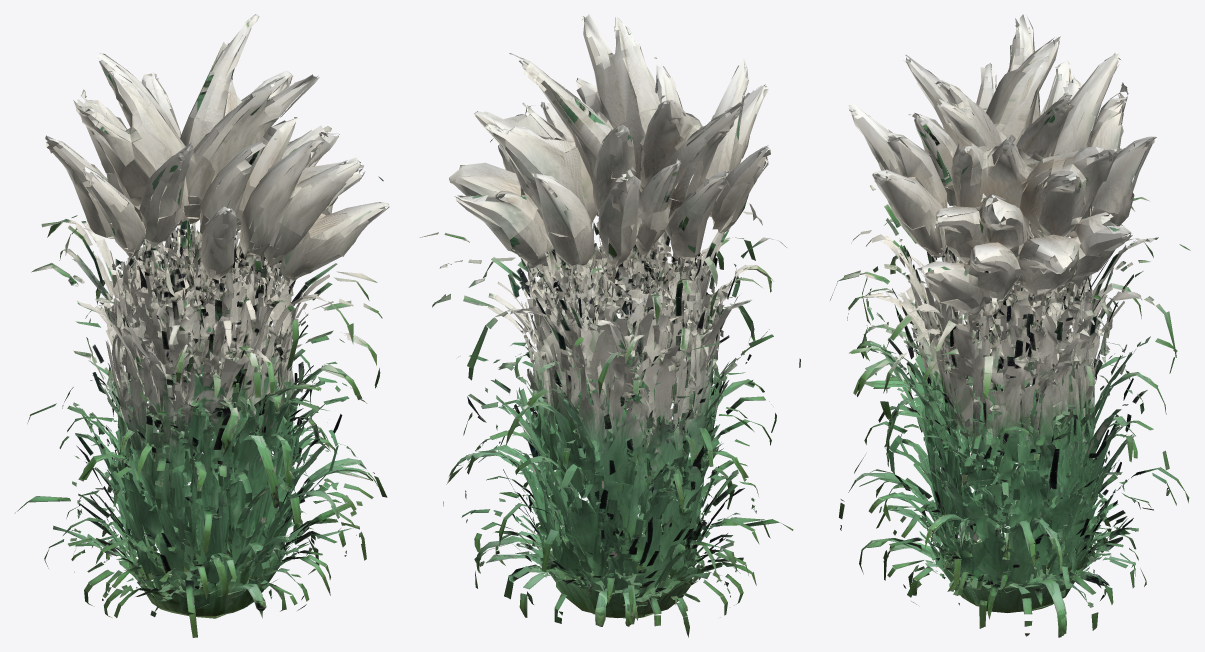
The model's file is veg_ground_pampas_01.glb.
The picture shows the model from 3 angles, left to right: view 1: azimuth 30°, elevation 25°; view 2: azimuth 150°, elevation 25°; view 3: azimuth 270°, elevation 25°; orthographic projection.
Visible parts, largest first — view 1: veg_ground_pampas_01; view 2: veg_ground_pampas_01; view 3: veg_ground_pampas_01.
Boxes of the visible parts, x1,y1,x2,y2 form: veg_ground_pampas_01: (15, 14, 389, 637); veg_ground_pampas_01: (420, 14, 800, 637); veg_ground_pampas_01: (830, 14, 1190, 637).
Bounding box in the file's own units: 2.44 × 4.09 × 2.5.
Materials: 1 (1 with a texture image).
